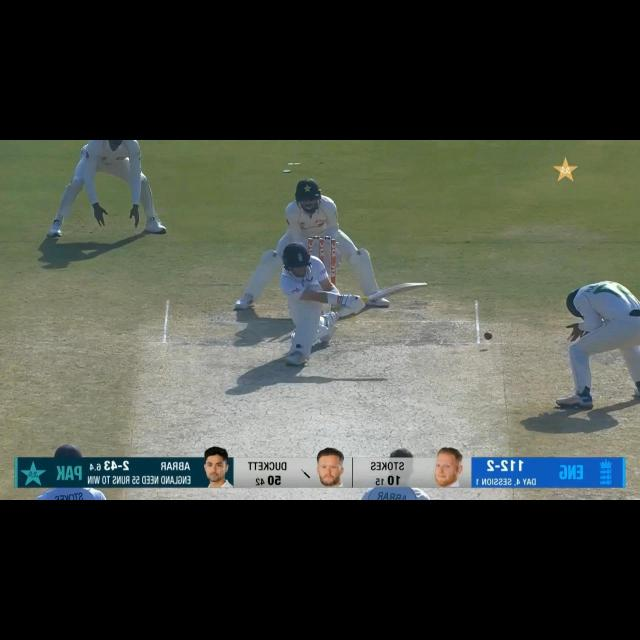bat: (361, 279, 429, 304)
toe: (415, 279, 429, 292)
